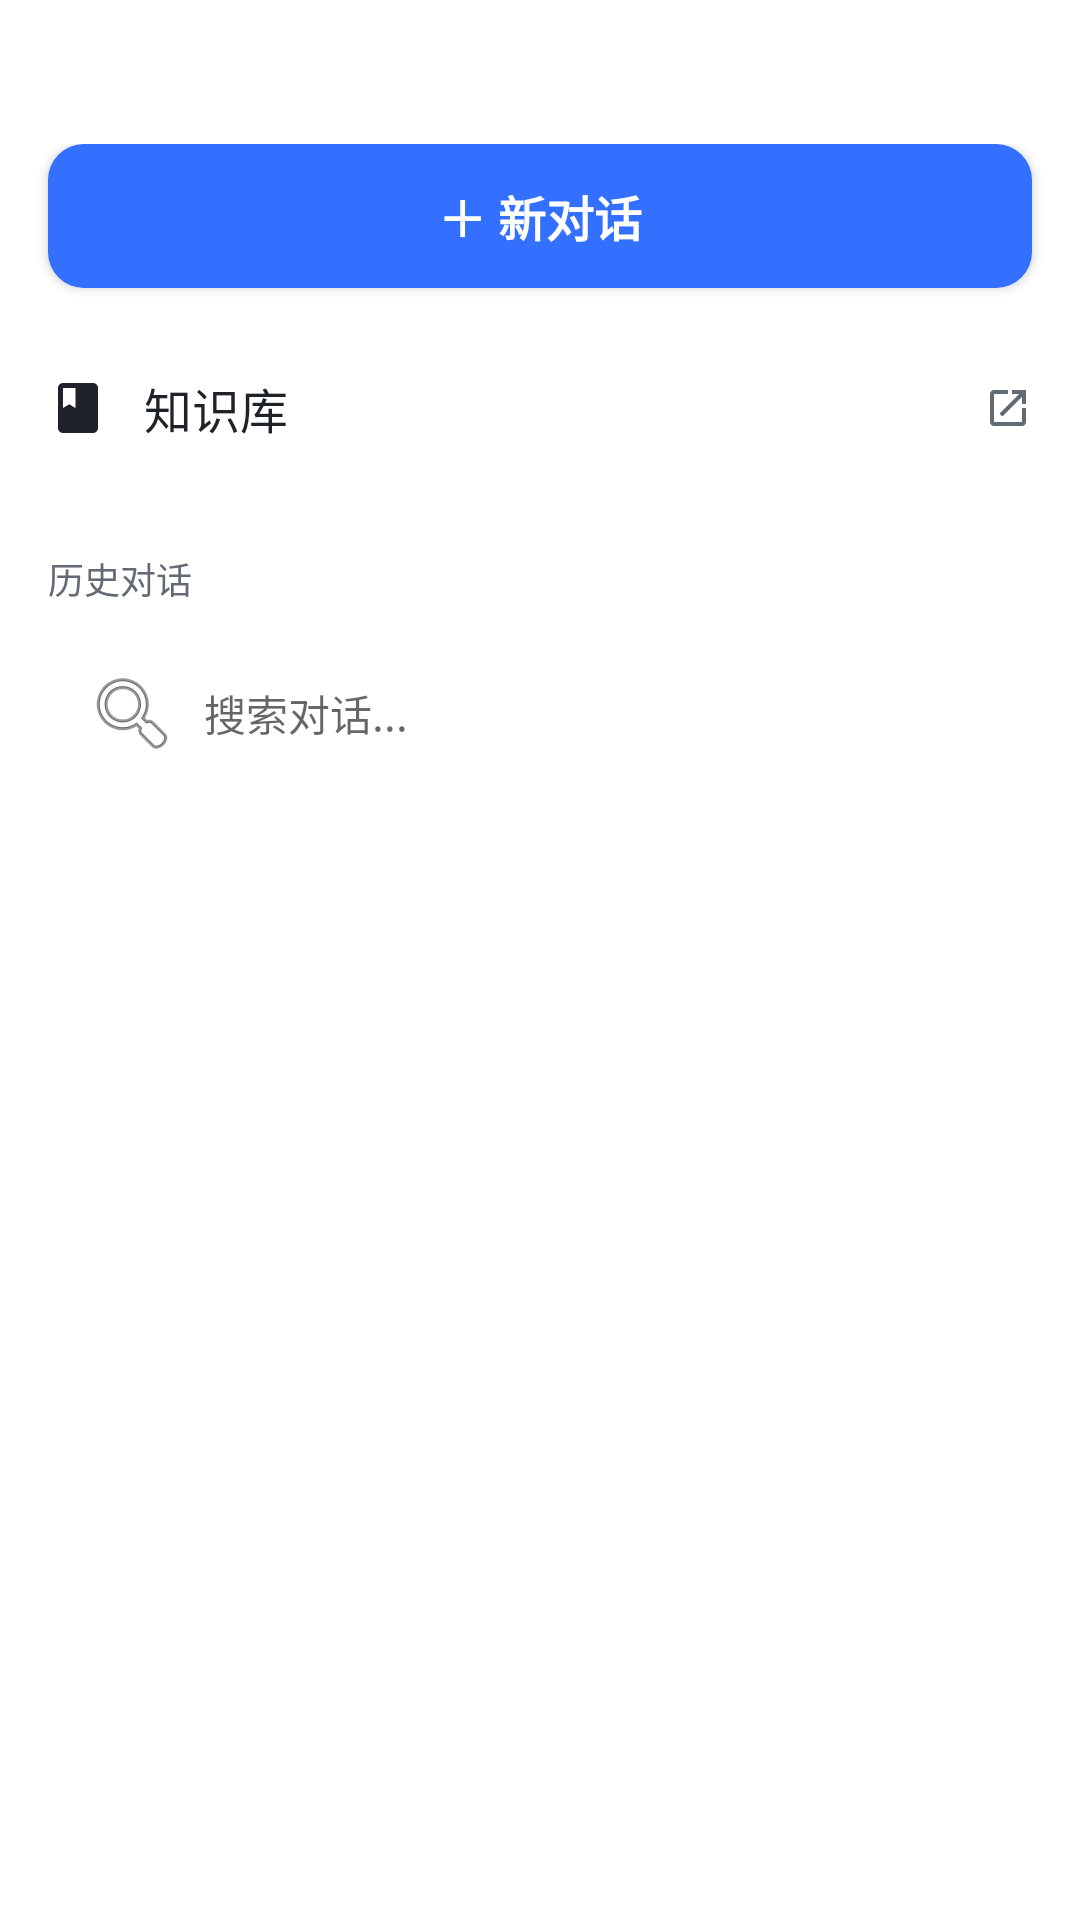

Point at icon controls on the screen. Image size 1080px x 1920px, points as (x=x, y=y).
打开: (x=1008, y=408)
